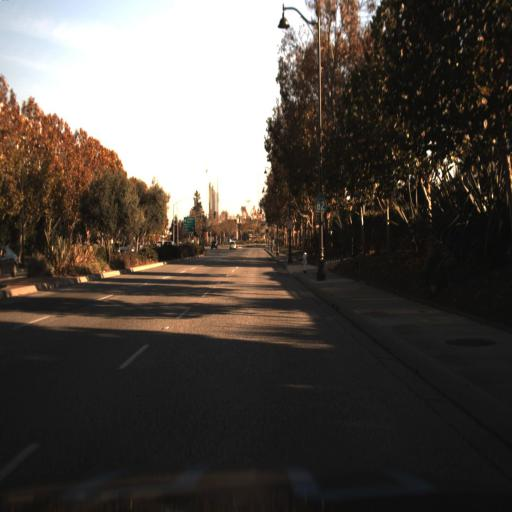car: (117, 234, 141, 259), (227, 234, 241, 257), (207, 236, 220, 255)
